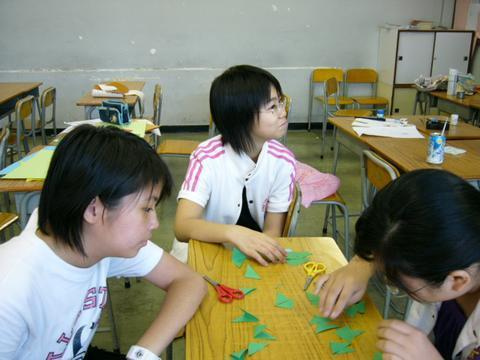person: (1, 123, 206, 360), (315, 169, 480, 360), (175, 63, 297, 267)
